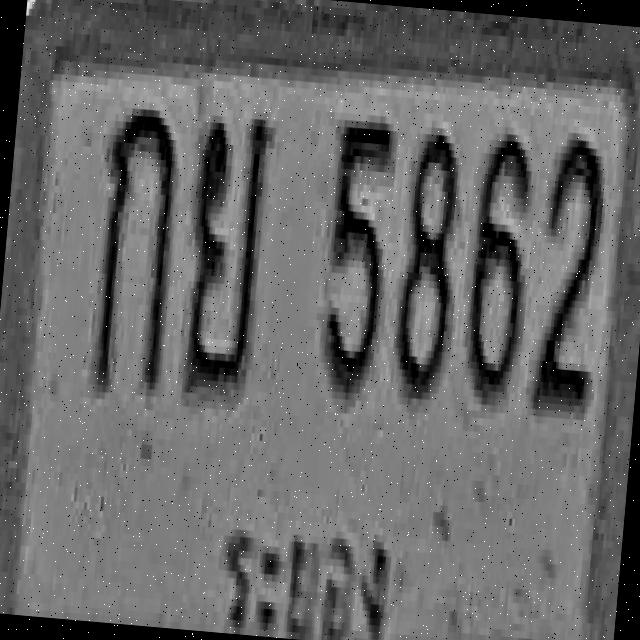10GorGai: (88, 96, 184, 393)
2: (530, 128, 608, 410)
43YorYak: (176, 108, 272, 398)
5: (316, 109, 396, 398)
6: (460, 125, 538, 400)
8: (390, 122, 465, 397)
Rayong: (209, 484, 400, 640)
